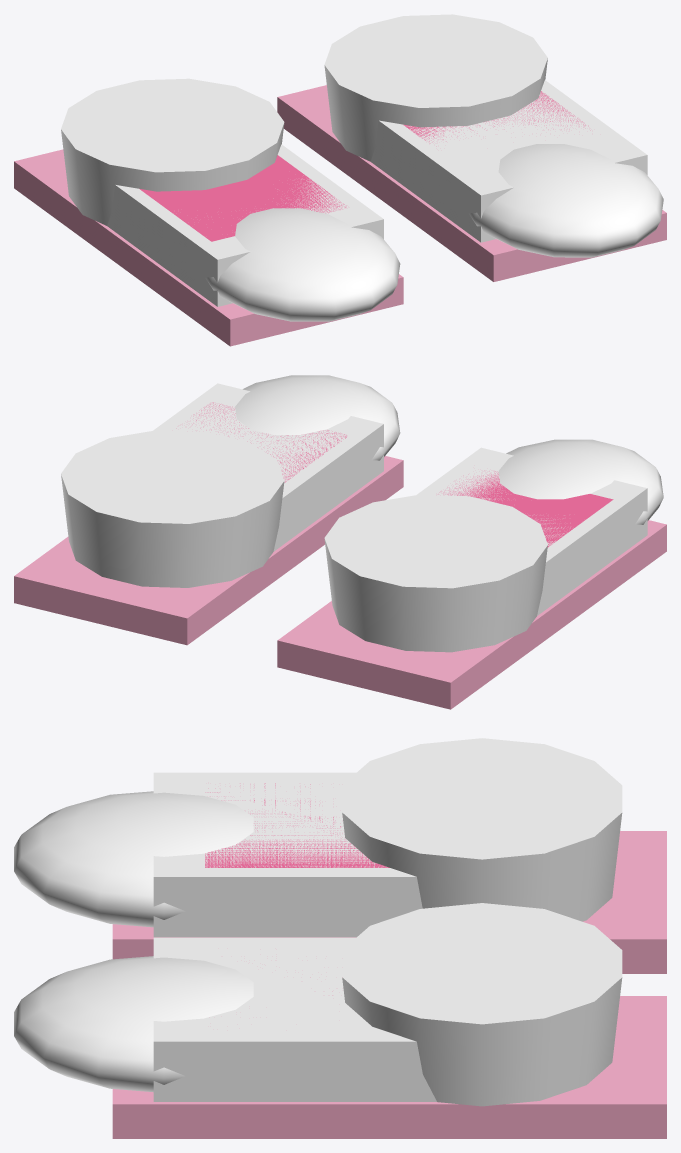
The model's file is shoes_cute_0.glb.
3 views of the same model, one above another, from view 1: azimuth 30°, elevation 25°; view 2: azimuth 150°, elevation 25°; view 3: azimuth 270°, elevation 25° (orthographic). The views are drawn at different scales.
Size of the model in its own units: 0.3696 by 0.0728 by 0.3563.
